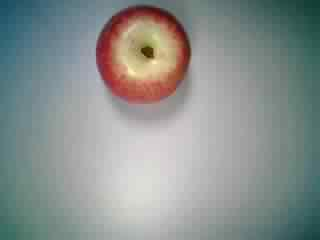apple: (94, 5, 198, 109)
